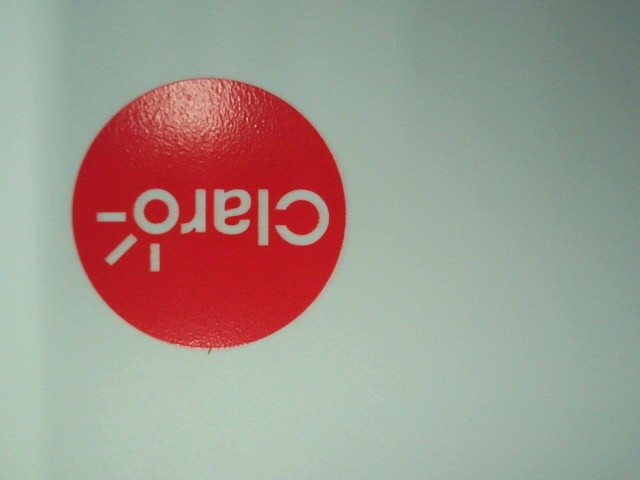BC_ClaorRed: (61, 74, 356, 355)
